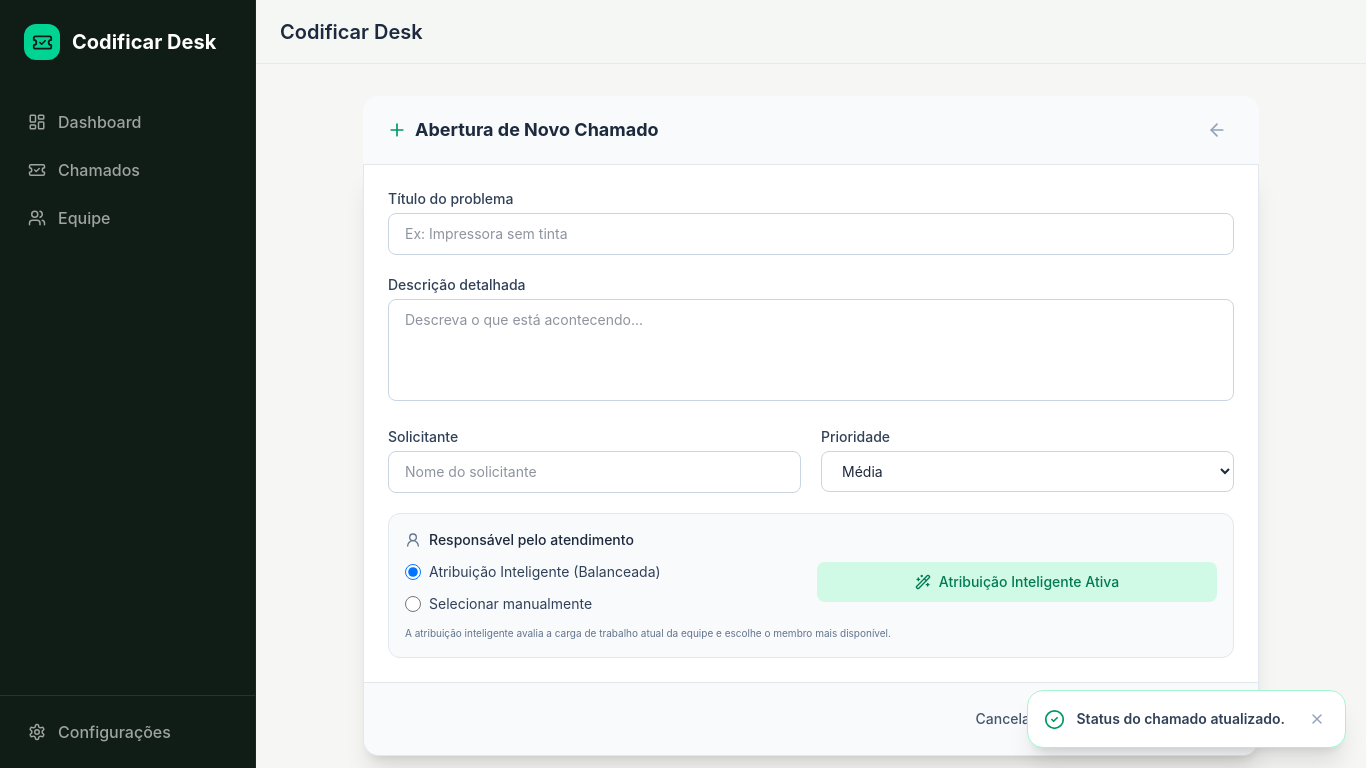
interface do fluxo principal › mantém a criação aberta e mostra o erro do responsável junto ao campo manual
Click the radio button labelled "Selecionar manualmente".
click(413, 604)  # box [405,596,421,612]
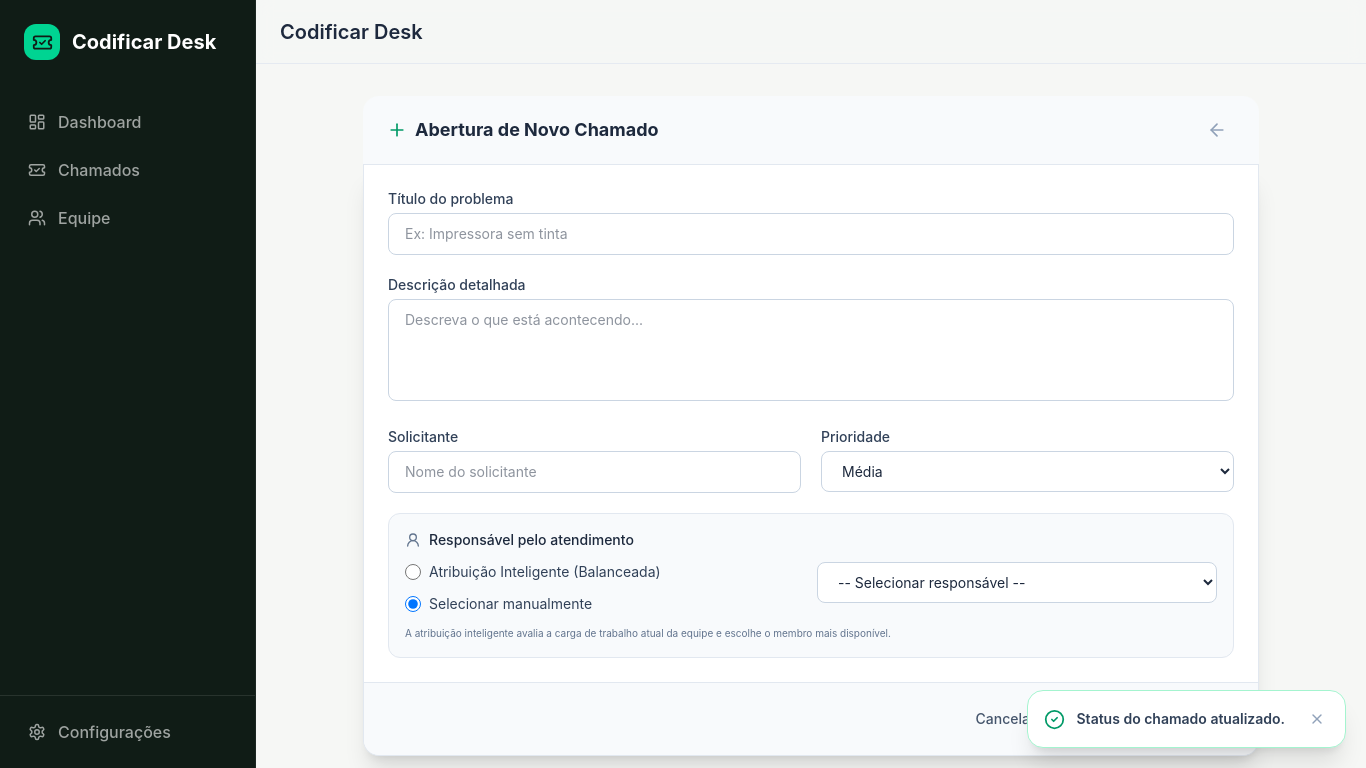
Type "Acesso bloqueado" into the field named "title".
click(811, 234); type("Acesso bloqueado")  # box [388,213,1234,255]
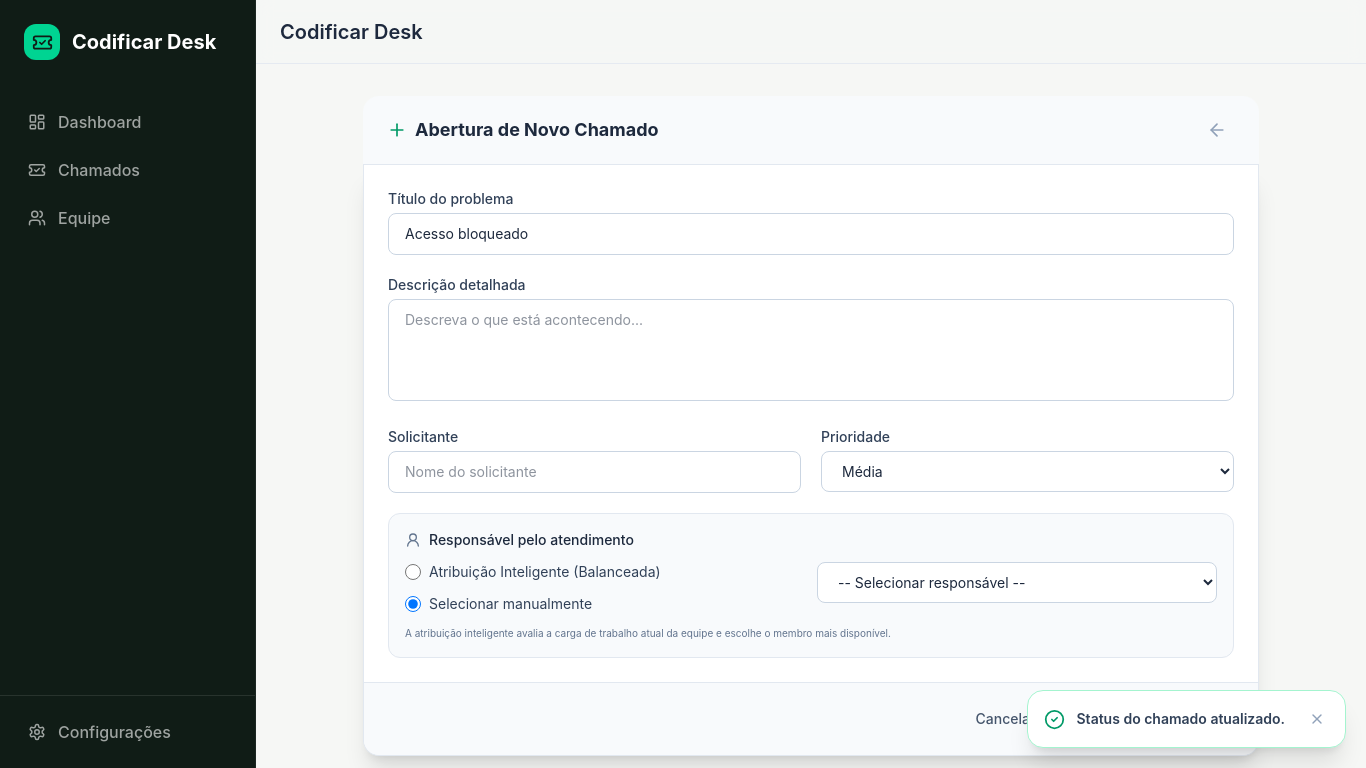
Type "Usuário sem acesso ao sistema." into the text box named "description".
click(811, 350); type("Usuário sem acesso ao sistema.")  # box [388,299,1234,401]
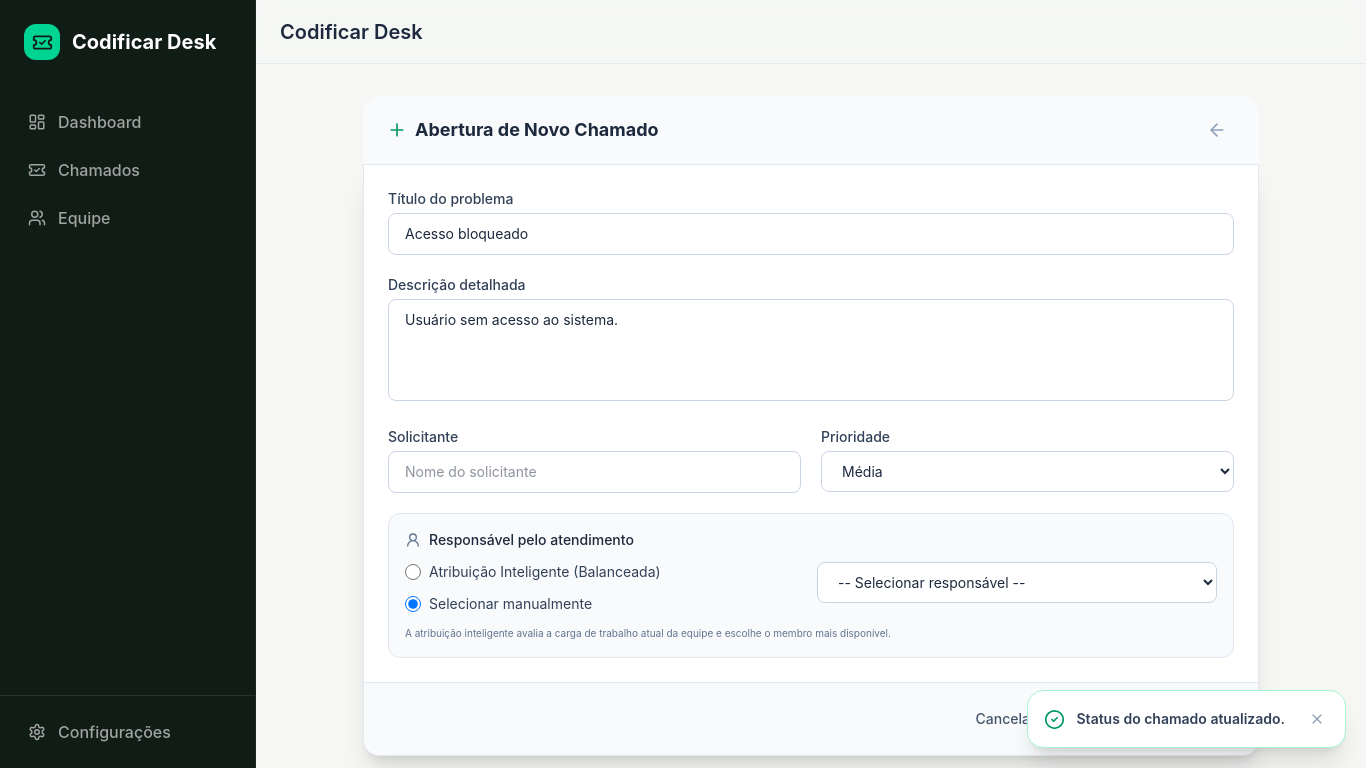
Type "Financeiro" into the field named "requesterName".
click(594, 472); type("Financeiro")  # box [388,451,801,493]
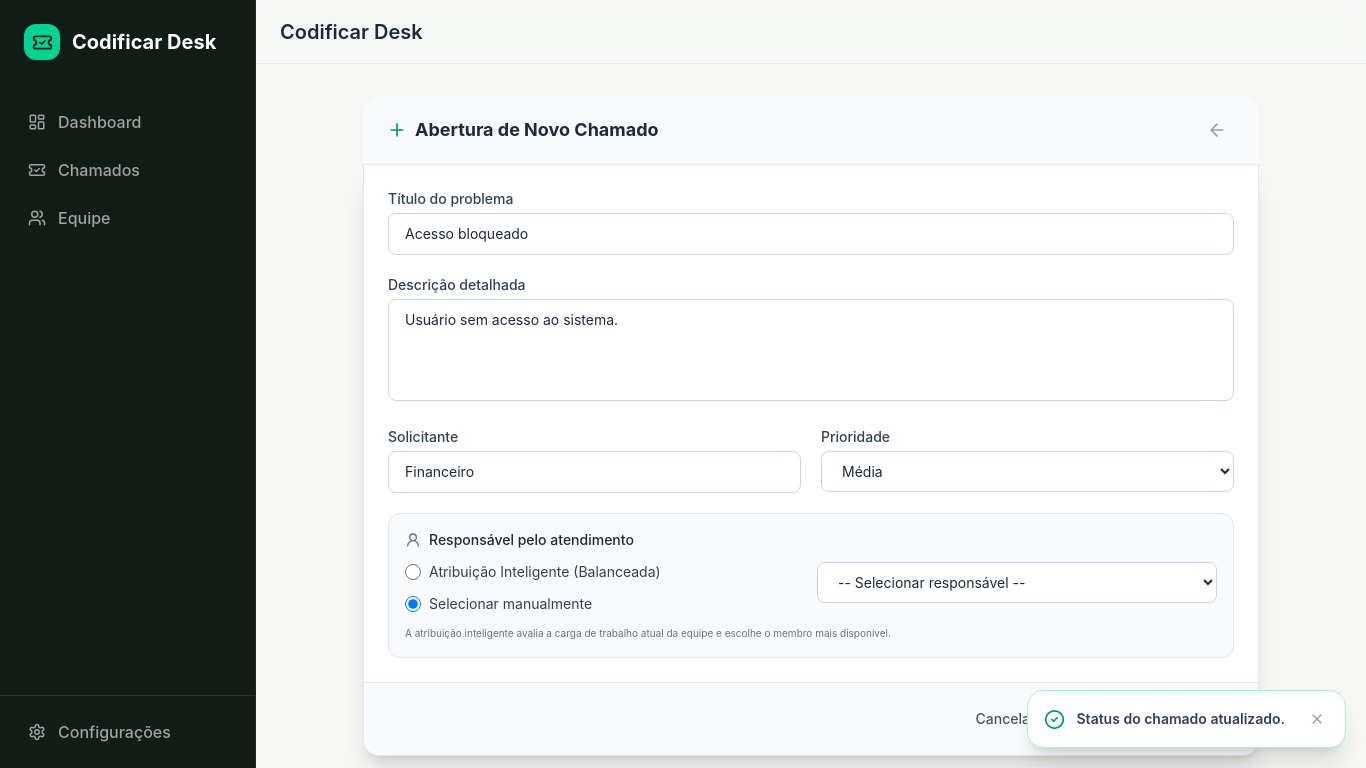
Submit the form with id "ticket-form", box [388,189,1234,658]
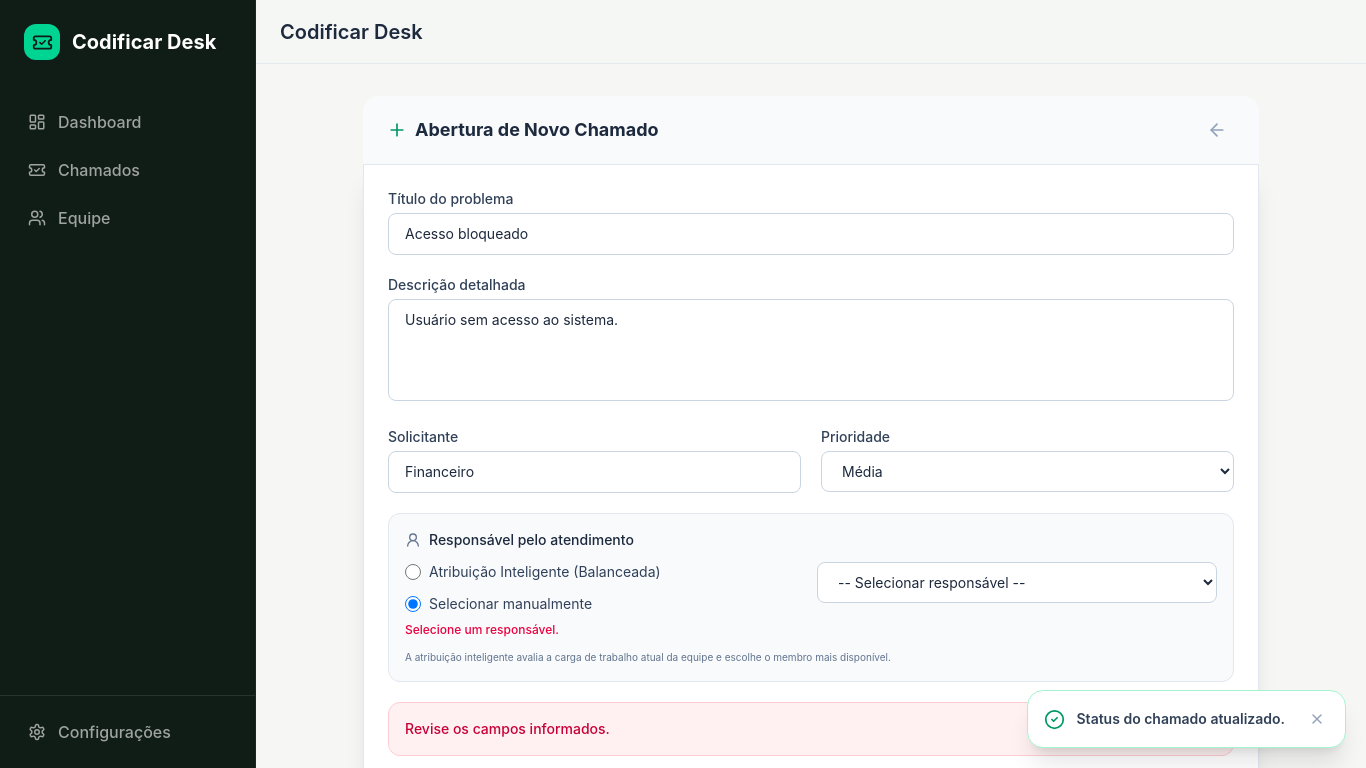
expect the text with id "ticket-assignee-error" reads "Selecione um responsável.": met, box [405,622,559,637]
